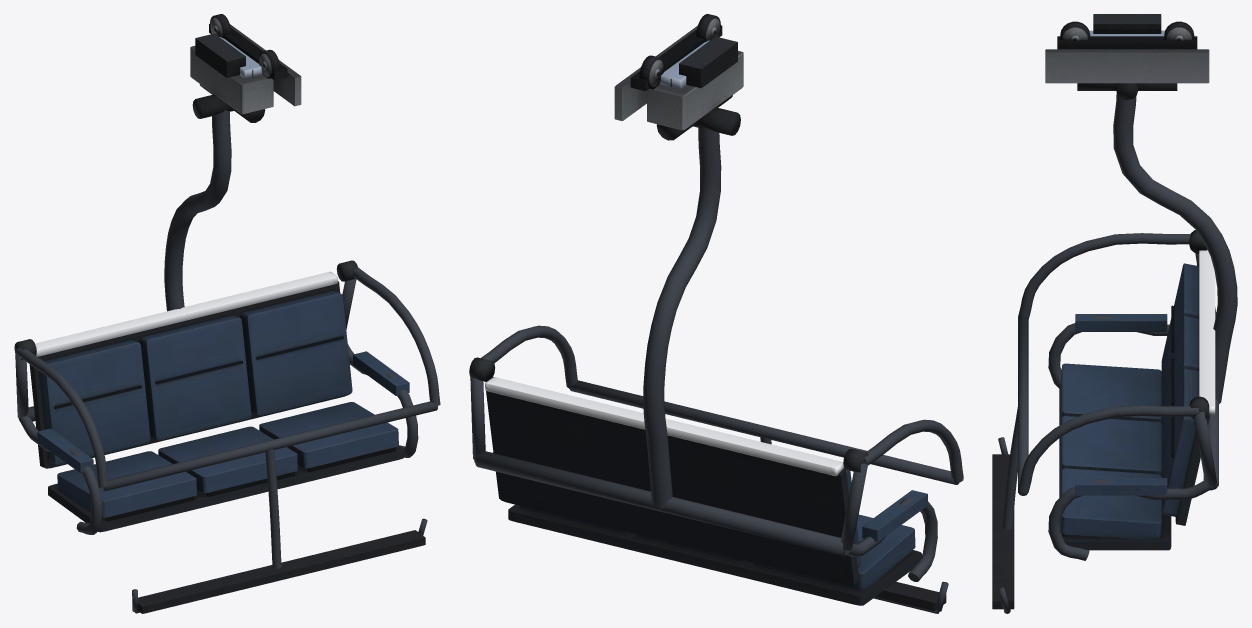
The model's file is chair3_detach.glb.
3 renders of one model, left to right at view 1: azimuth 30°, elevation 25°; view 2: azimuth 150°, elevation 25°; view 3: azimuth 270°, elevation 25°, orthographic. The views are drawn at different scales.
Parts seen in each view (by area): view 1: chair3_detach, chair3_detach_paint, chair3_detach_snow; view 2: chair3_detach, chair3_detach_paint, chair3_detach_snow; view 3: chair3_detach, chair3_detach_paint, chair3_detach_snow.
Part boxes in pixels (x1,y1,x2,y2): chair3_detach: (14,14,425,613); chair3_detach_paint: (15,110,440,613); chair3_detach_snow: (35,37,337,356); chair3_detach: (469,14,946,611); chair3_detach_paint: (470,126,963,613); chair3_detach_snow: (485,40,844,476); chair3_detach: (992,14,1210,609); chair3_detach_paint: (998,93,1237,613); chair3_detach_snow: (1089,30,1215,414).
Size of the model in its own units: 2.1 by 2.92 by 1.23.
Materials: 3 (1 with a texture image).
